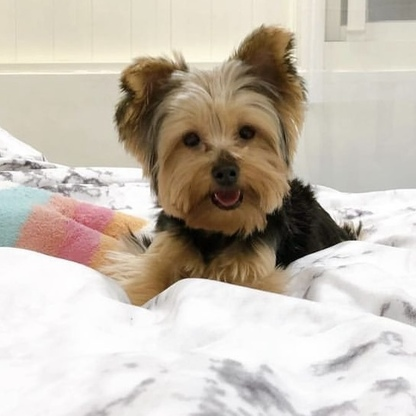yokshine: (114, 22, 357, 303)
